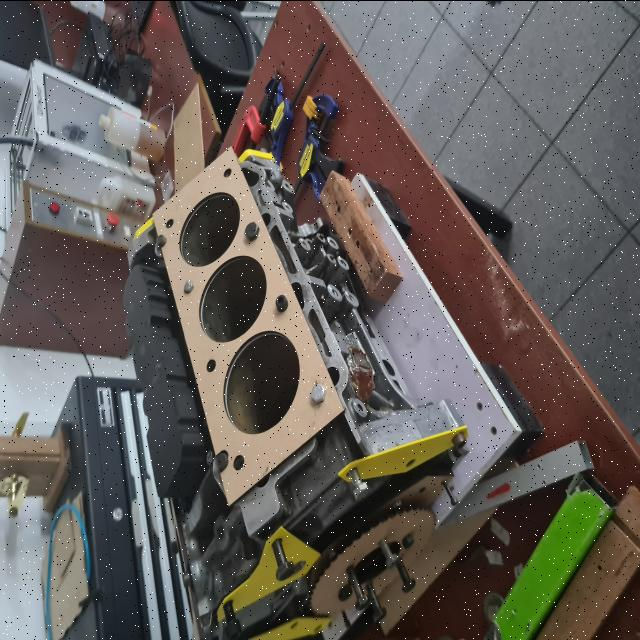vista1: (152, 145, 344, 505)
